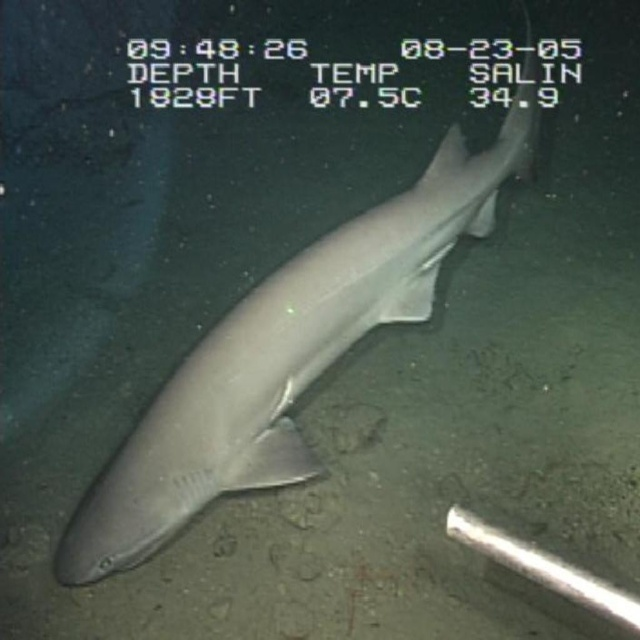Shark: (38, 84, 546, 579)
